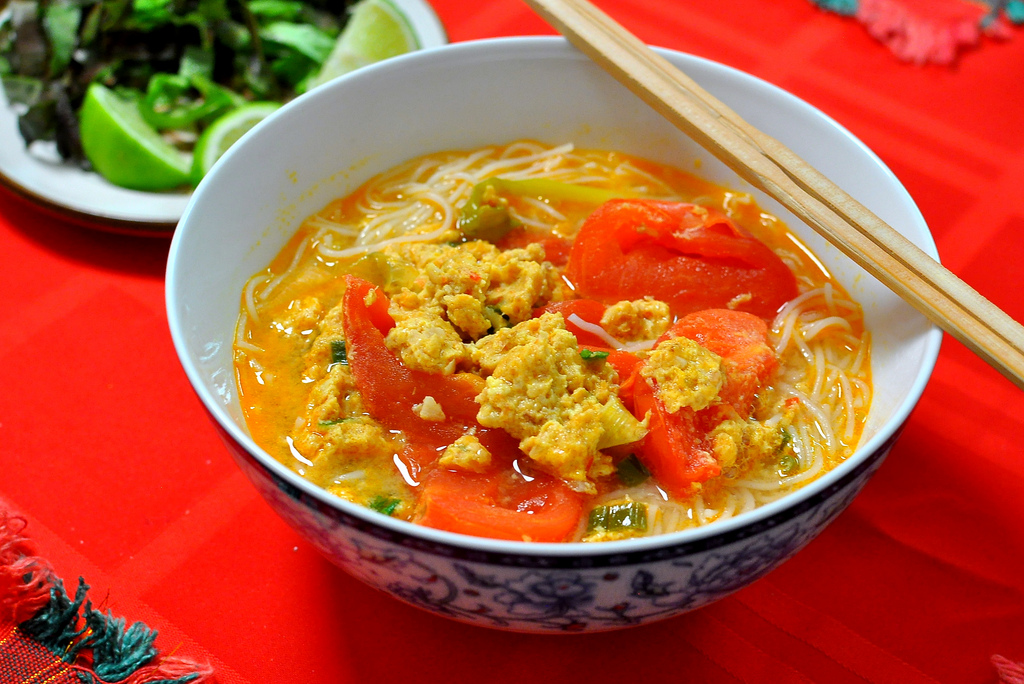rieu: (482, 326, 599, 448), (424, 245, 548, 308), (652, 339, 715, 414), (399, 307, 467, 363)
tomato: (581, 200, 775, 316), (433, 425, 581, 537), (338, 278, 447, 417), (617, 379, 732, 476)
